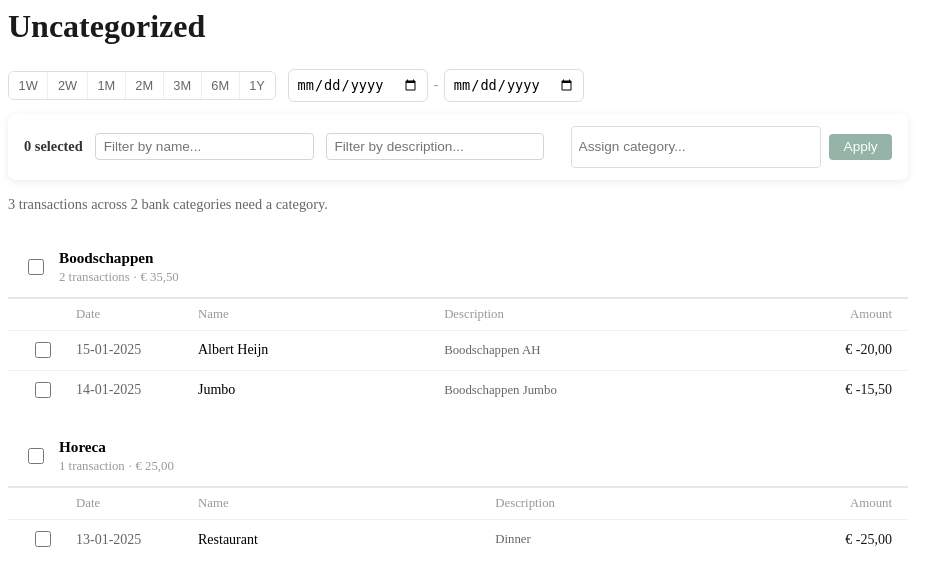
Test: Uncategorized Page › toggles individual transaction selection
Expected: the text "Albert Heijn" is shown, [182,330,428,370]
Step 1. Click the checkbox next to "15-01-2025" → (42, 350), box [34,342,50,358]
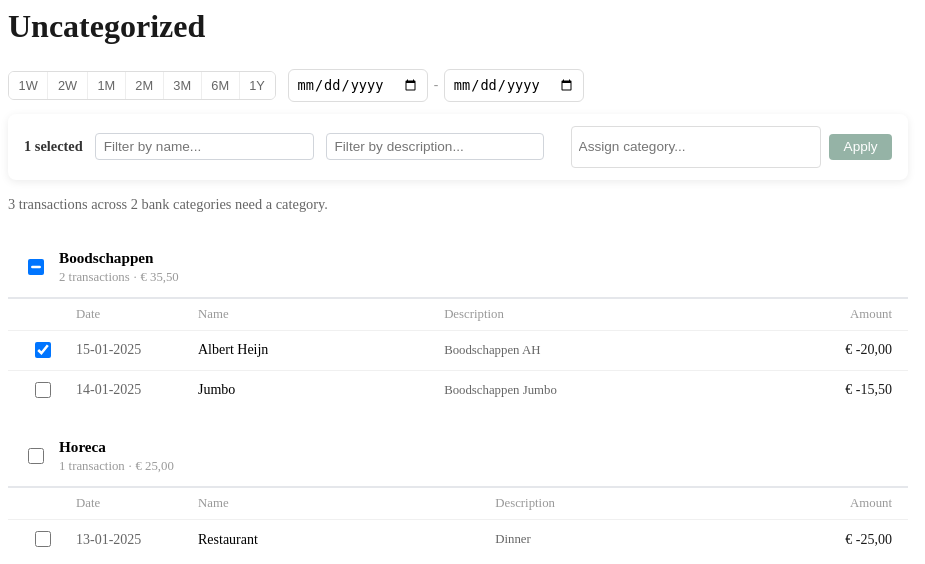
Expected: the text "1 selected" is shown, [24,138,83,155]
Step 2. Click the checkbox next to "15-01-2025" → (42, 350), box [34,342,50,358]
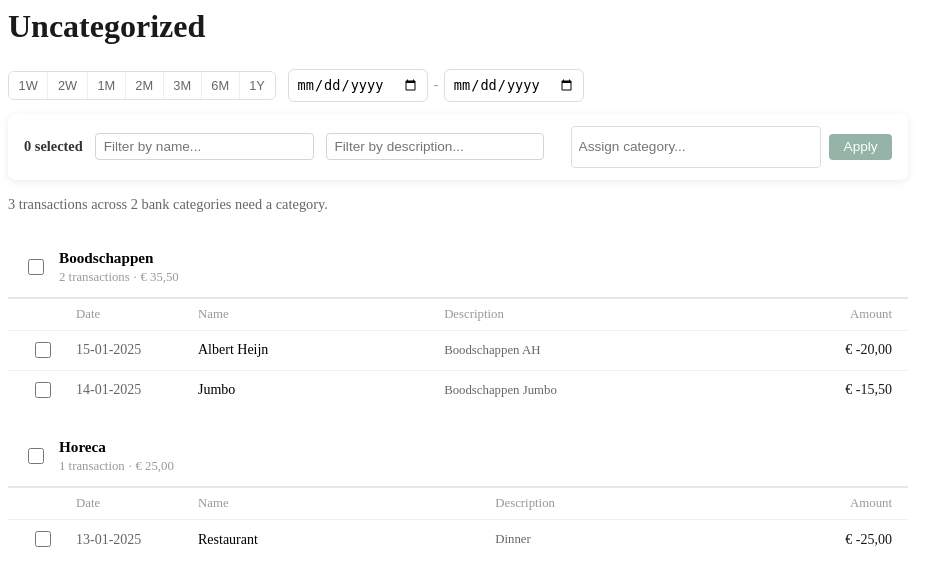
Expected: the text "0 selected" is shown, [24,138,83,155]
